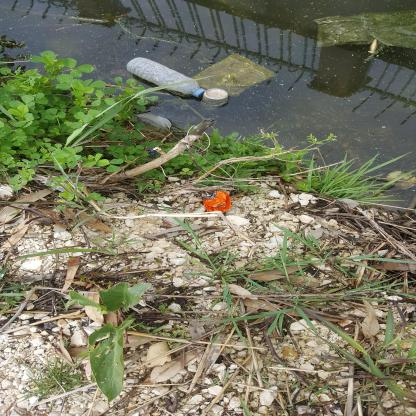plastik: (58, 210, 98, 290), (192, 184, 214, 212)
